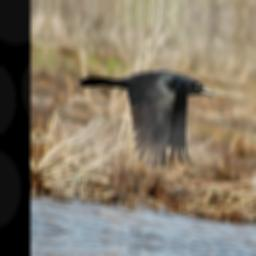Crow: (72, 59, 217, 176)
